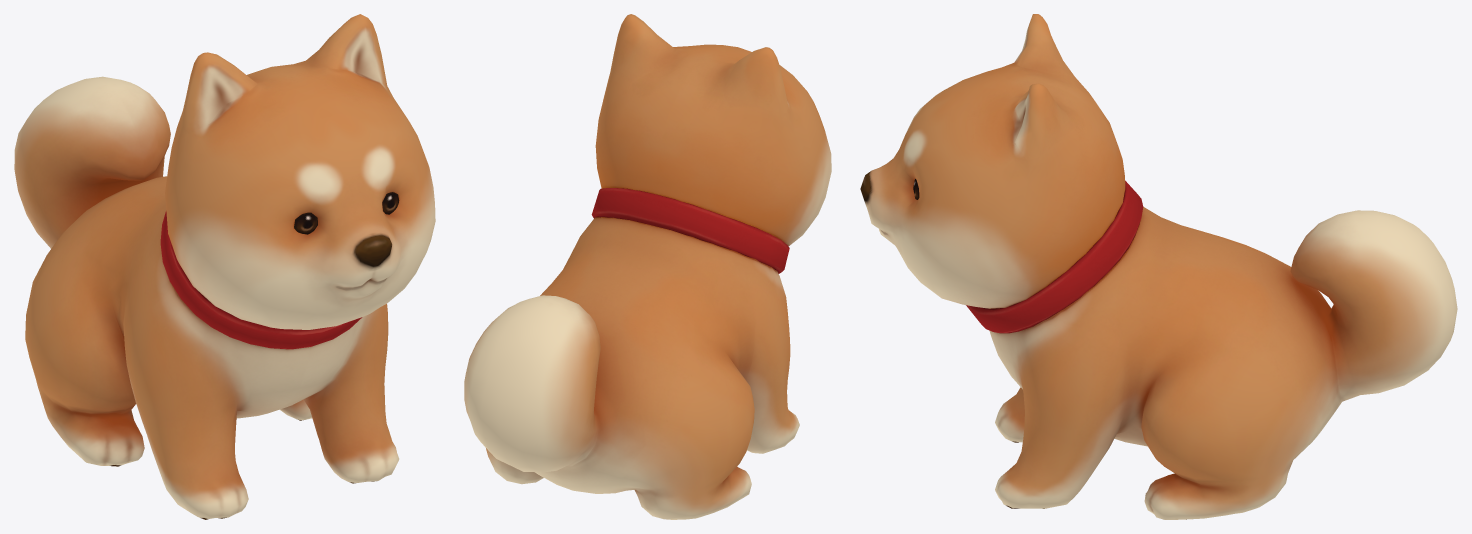
The model's file is shiba.glb.
3 renders of one model, left to right at view 1: azimuth 30°, elevation 25°; view 2: azimuth 150°, elevation 25°; view 3: azimuth 270°, elevation 25°, orthographic. The views are drawn at different scales.
Visible parts, largest first — view 1: Box002, Group18985, Object001_default_0; view 2: Box002, Group18985; view 3: Box002, Group18985.
Part boxes in pixels (<box>): Box002: <box>14,14,435,519</box>; Group18985: <box>160,211,362,349</box>; Object001_default_0: <box>294,192,399,234</box>; Box002: <box>464,14,831,519</box>; Group18985: <box>591,188,789,273</box>; Box002: <box>860,14,1457,519</box>; Group18985: <box>966,180,1143,333</box>.
Size of the model in its own units: 0.9208 by 1.38 by 1.77.
Materials: 1 (1 with a texture image).
